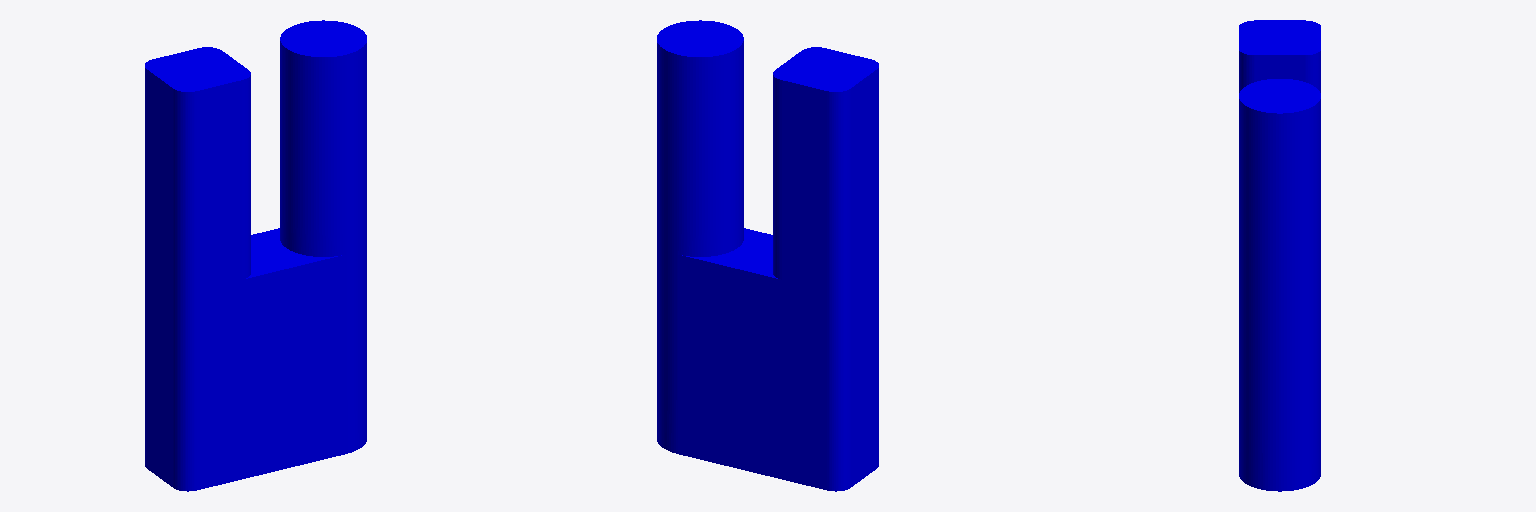
The robot description file, URDF, robot "board2_block4":
<?xml version="1.0"?>
<robot name="board2_block4">
    <link name="board2_block4">
        <visual>
            <origin xyz="0 0 0 " rpy=" 0 0 0"/>
            <geometry>
                <mesh filename="../meshes/SIMO_Board2_Block4.stl" scale="0.001 0.001 0.001"/>
            </geometry>
            <material name="red">
                <color rgba="0.0 0.0 1.0 1.0"/>
            </material>
        </visual>
        <collision>
            <origin xyz="0 0 0" rpy="0 0 0"/>
            <geometry>
                <mesh filename="../meshes/SIMO_Board2_Block4.stl" scale="0.001 0.001 0.001"/>
            </geometry>
        </collision>
    </link>
</robot>

--- Render facts (derived) ---
The picture shows the robot from 3 angles, left to right: view 1: azimuth 30°, elevation 25°; view 2: azimuth 150°, elevation 25°; view 3: azimuth 270°, elevation 25°; orthographic projection.
Model board2_block4 with 1 links and 0 joints (none), rooted at board2_block4, posed all joints at 0.
Visible links, largest first — view 1: board2_block4; view 2: board2_block4; view 3: board2_block4.
Boxes of the visible links, x1,y1,x2,y2 form: board2_block4: (145, 20, 366, 491); board2_block4: (657, 20, 878, 491); board2_block4: (1239, 20, 1320, 491).
Size in the robot's own frame: 0.0528 by 0.0198 by 0.1 metres.
1 mesh visuals loaded from 1 distinct referenced files (1 ASCII STL).
